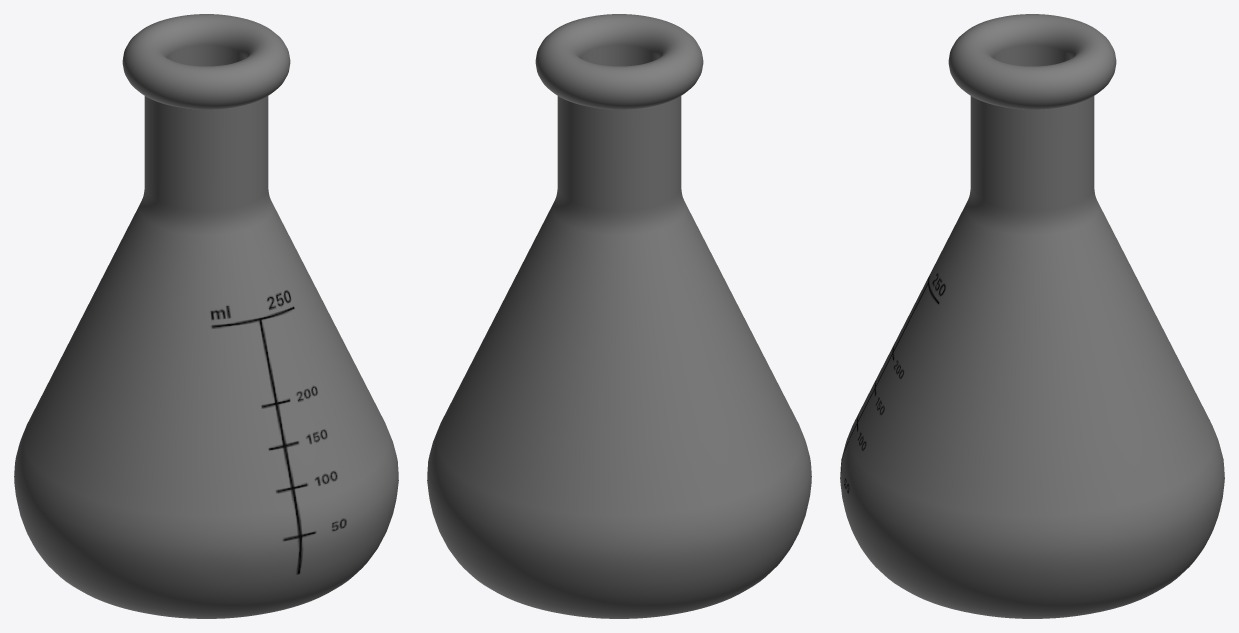
The model's file is ErlenmeyerFlask.glb.
3 views of the same model, side by side, from view 1: azimuth 30°, elevation 25°; view 2: azimuth 150°, elevation 25°; view 3: azimuth 270°, elevation 25° (orthographic).
Visible parts, largest first — view 1: erlenmeyer_flask_base_stylized_lod0; view 2: erlenmeyer_flask_base_stylized_lod0; view 3: erlenmeyer_flask_base_stylized_lod0.
Part boxes in pixels (x1,y1,x2,y2): erlenmeyer_flask_base_stylized_lod0: [14, 14, 398, 618]; erlenmeyer_flask_base_stylized_lod0: [427, 14, 811, 618]; erlenmeyer_flask_base_stylized_lod0: [840, 14, 1224, 618].
Bounding box in the file's own units: 0.088 × 0.132 × 0.088.
1 material, 1 textured.
